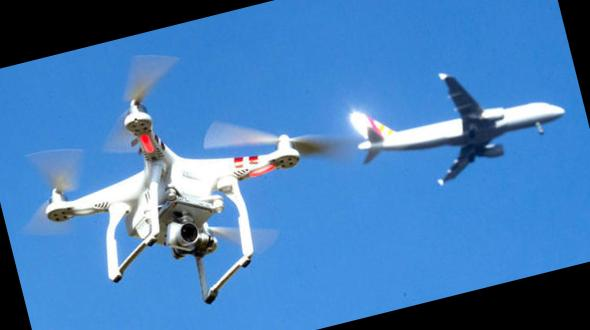drone: (9, 72, 340, 310)
